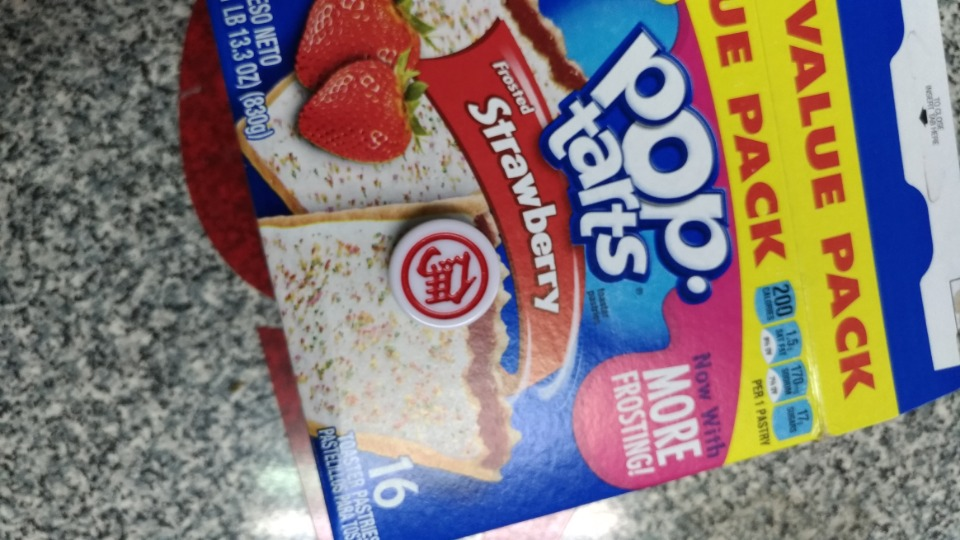r-knight: (378, 211, 509, 342)
